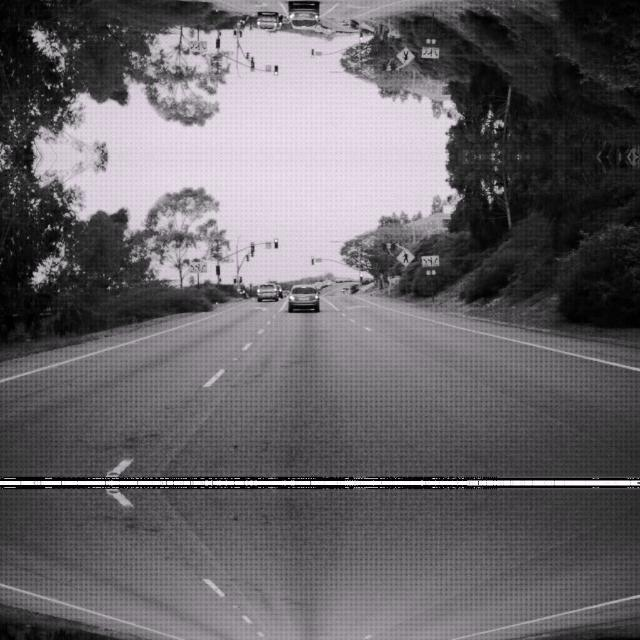pedestrianCrossing: (396, 246, 414, 266), (396, 46, 414, 66)
